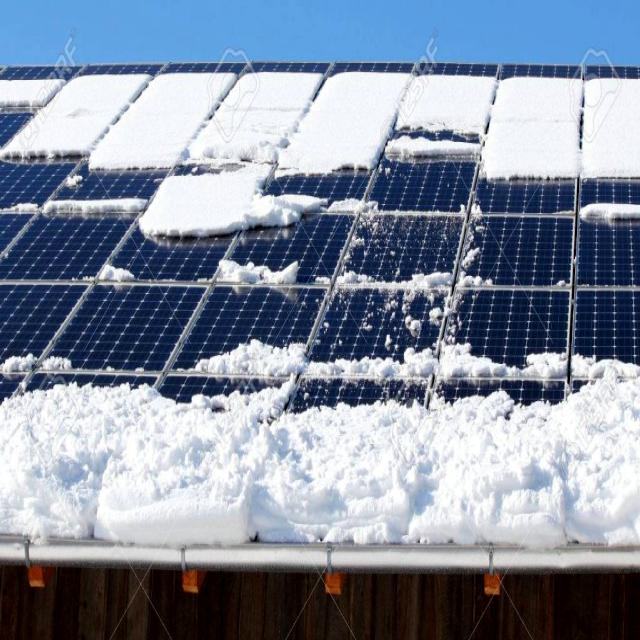panel: (1, 333, 190, 481), (188, 322, 324, 456), (481, 324, 635, 422), (127, 63, 202, 243), (0, 68, 117, 180), (490, 52, 573, 198), (347, 332, 458, 438), (331, 202, 428, 321), (234, 66, 326, 184), (395, 57, 474, 186), (582, 66, 640, 194), (439, 186, 502, 299), (333, 66, 388, 186), (574, 183, 636, 280), (212, 249, 314, 296), (8, 187, 122, 227), (96, 256, 166, 303), (210, 65, 236, 170)
